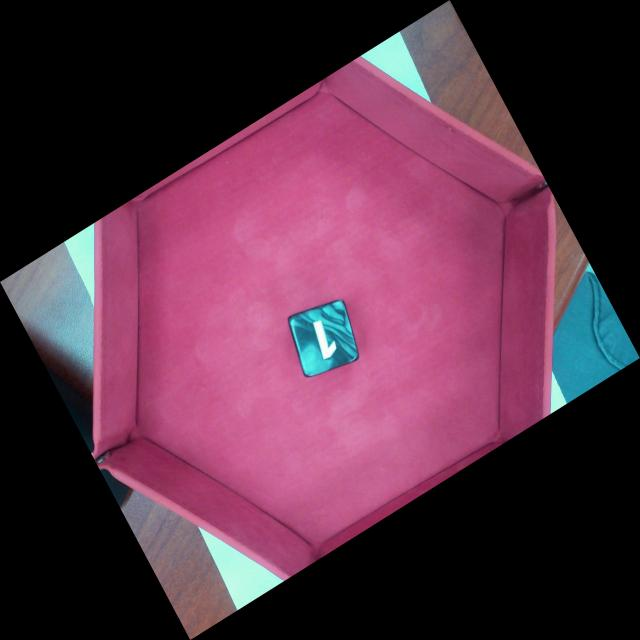dice: (291, 300, 360, 375)
